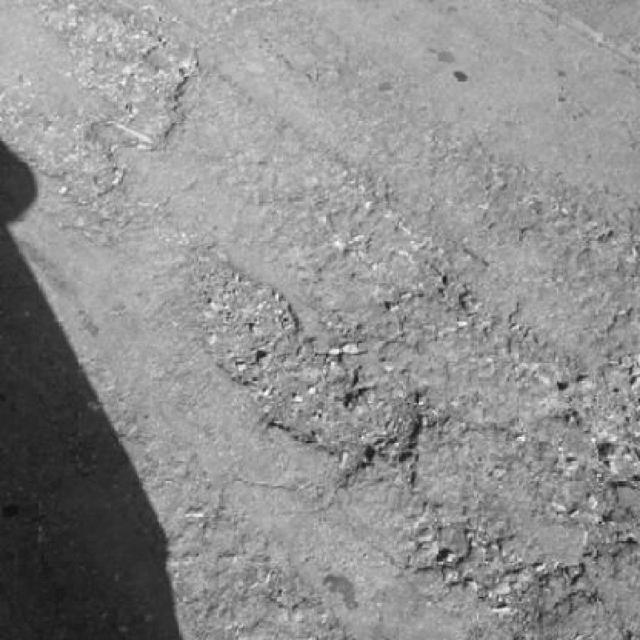pothole: (33, 0, 205, 146), (246, 351, 434, 480), (175, 256, 311, 379), (26, 116, 126, 204)
